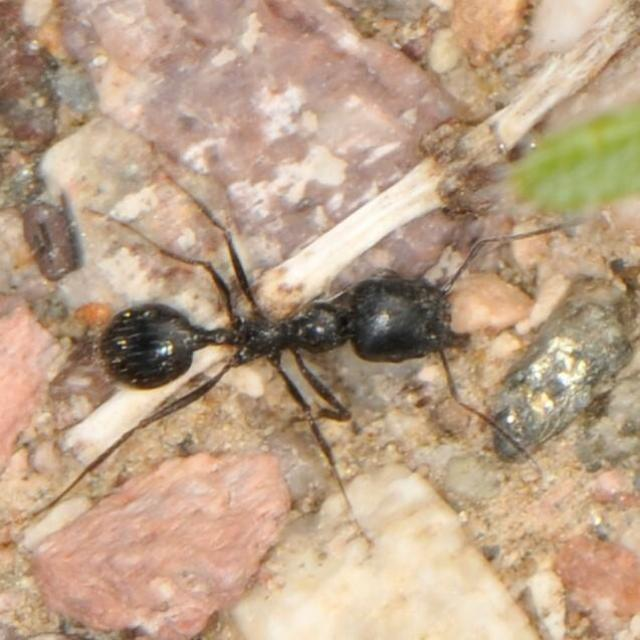Messor: (94, 229, 480, 439)
